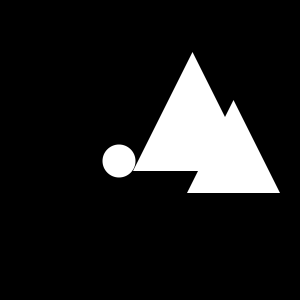rectangle: (102, 144, 136, 178)
triangle: (133, 52, 252, 171), (187, 100, 280, 193)
